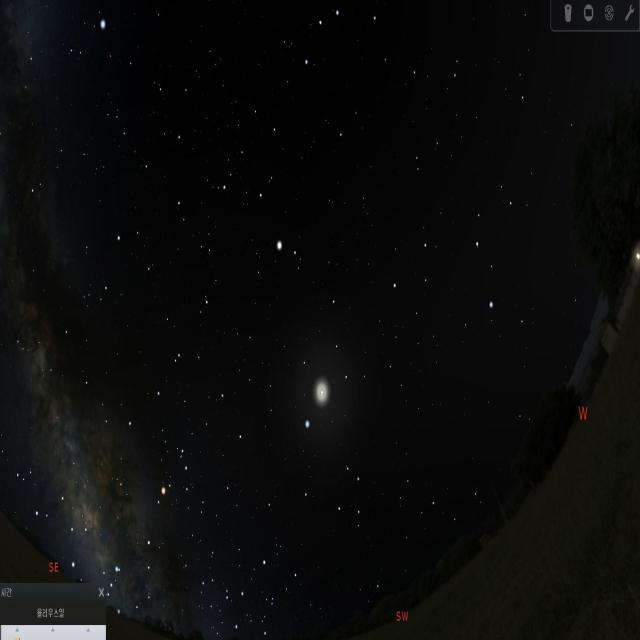bootes: (235, 101, 307, 265)
leo: (384, 182, 516, 336)
lyra: (66, 0, 108, 78)
moon: (300, 340, 346, 432)
scorpius: (113, 441, 196, 614)
